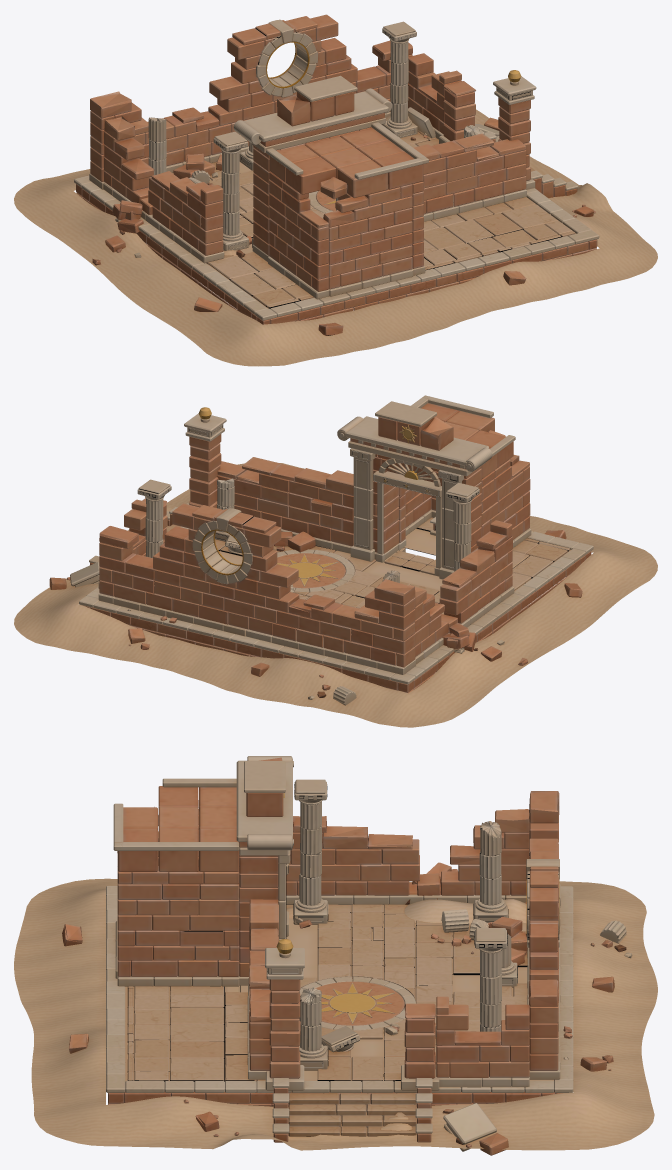
The model's file is sun_shrine_ruin.fbx.
3 renders of one model, top to bottom at view 1: azimuth 30°, elevation 25°; view 2: azimuth 150°, elevation 25°; view 3: azimuth 270°, elevation 25°, orthographic. The views are drawn at different scales.
Parts seen in each view (by area): view 1: SunShrine_Sand, SunShrine_Gateway, SunShrine_Ground, SunShrine_WallSouth, SunShrine_WallEast, SunShrine_WallNorth, SunShrine_WallWest, SunShrine_Columns, SunShrine_Debris; view 2: SunShrine_Sand, SunShrine_WallSouth, SunShrine_Gateway, SunShrine_Ground, SunShrine_WallNorth, SunShrine_WallEast, SunShrine_WallWest, SunShrine_Columns, SunShrine_Debris, SunShrine_Rubble; view 3: SunShrine_Sand, SunShrine_Ground, SunShrine_Gateway, SunShrine_WallWest, SunShrine_WallEast, SunShrine_Columns, SunShrine_WallSouth, SunShrine_Debris, SunShrine_WallNorth, SunShrine_Rubble.
Boxes of the visible parts, x1,y1,x2,y2 form: SunShrine_Sand: (14,109,657,366); SunShrine_Gateway: (233,75,428,299); SunShrine_Ground: (74,128,599,324); SunShrine_WallSouth: (89,14,412,189); SunShrine_WallEast: (103,116,224,263); SunShrine_WallNorth: (413,133,526,221); SunShrine_WallWest: (408,53,536,189); SunShrine_Columns: (148,21,481,250); SunShrine_Debris: (105,107,593,335); SunShrine_Sand: (14,463,657,727); SunShrine_WallSouth: (98,503,415,674); SunShrine_Gateway: (337,395,531,579); SunShrine_Ground: (79,503,593,693); SunShrine_WallNorth: (217,457,353,553); SunShrine_WallEast: (409,520,514,664); SunShrine_WallWest: (98,407,226,588); SunShrine_Columns: (137,478,479,592); SunShrine_Debris: (49,500,582,705); SunShrine_Rubble: (66,546,527,699); SunShrine_Sand: (14,878,657,1150); SunShrine_Ground: (106,886,573,1142); SunShrine_Gateway: (113,756,293,986); SunShrine_WallWest: (265,939,529,1090); SunShrine_WallEast: (286,809,529,904); SunShrine_Columns: (293,779,517,1070); SunShrine_WallSouth: (526,791,560,1079); SunShrine_Debris: (62,862,626,1155); SunShrine_WallNorth: (247,899,278,1079); SunShrine_Rubble: (184,899,632,1147).
Bounding box in the file's own units: 4060 × 1530 × 4003.
